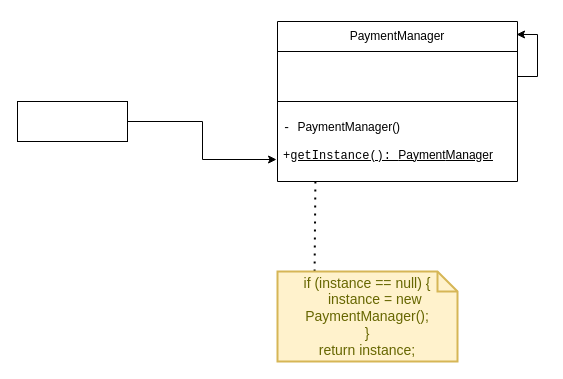
Some shapes in this 563 by 379 pixel diagram are drawn without their labels. Here are the shapes that lost their labels. From the top down, the centre of each, then its label:
the point at 397,76: - instance: Payment Manager
the point at 72,121: Client
